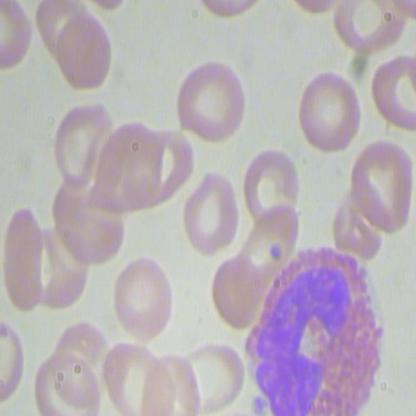RBC: (168, 55, 249, 144), (109, 251, 181, 345), (348, 139, 414, 240), (294, 67, 364, 158), (237, 141, 299, 233), (53, 6, 115, 98), (181, 163, 240, 259), (1, 205, 47, 317), (30, 348, 103, 415), (209, 250, 265, 332)
WBC: (243, 240, 393, 415)
